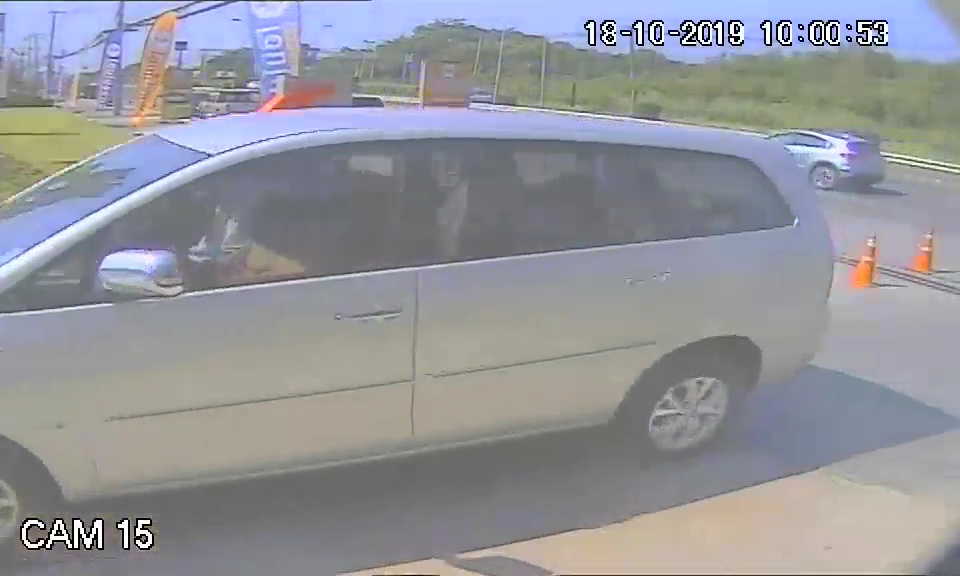van: (1, 101, 840, 471)
